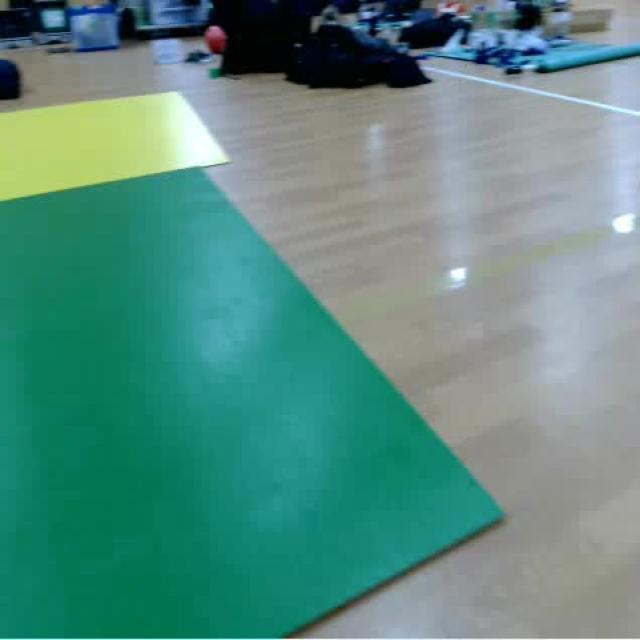red_ball: (208, 22, 228, 55)
